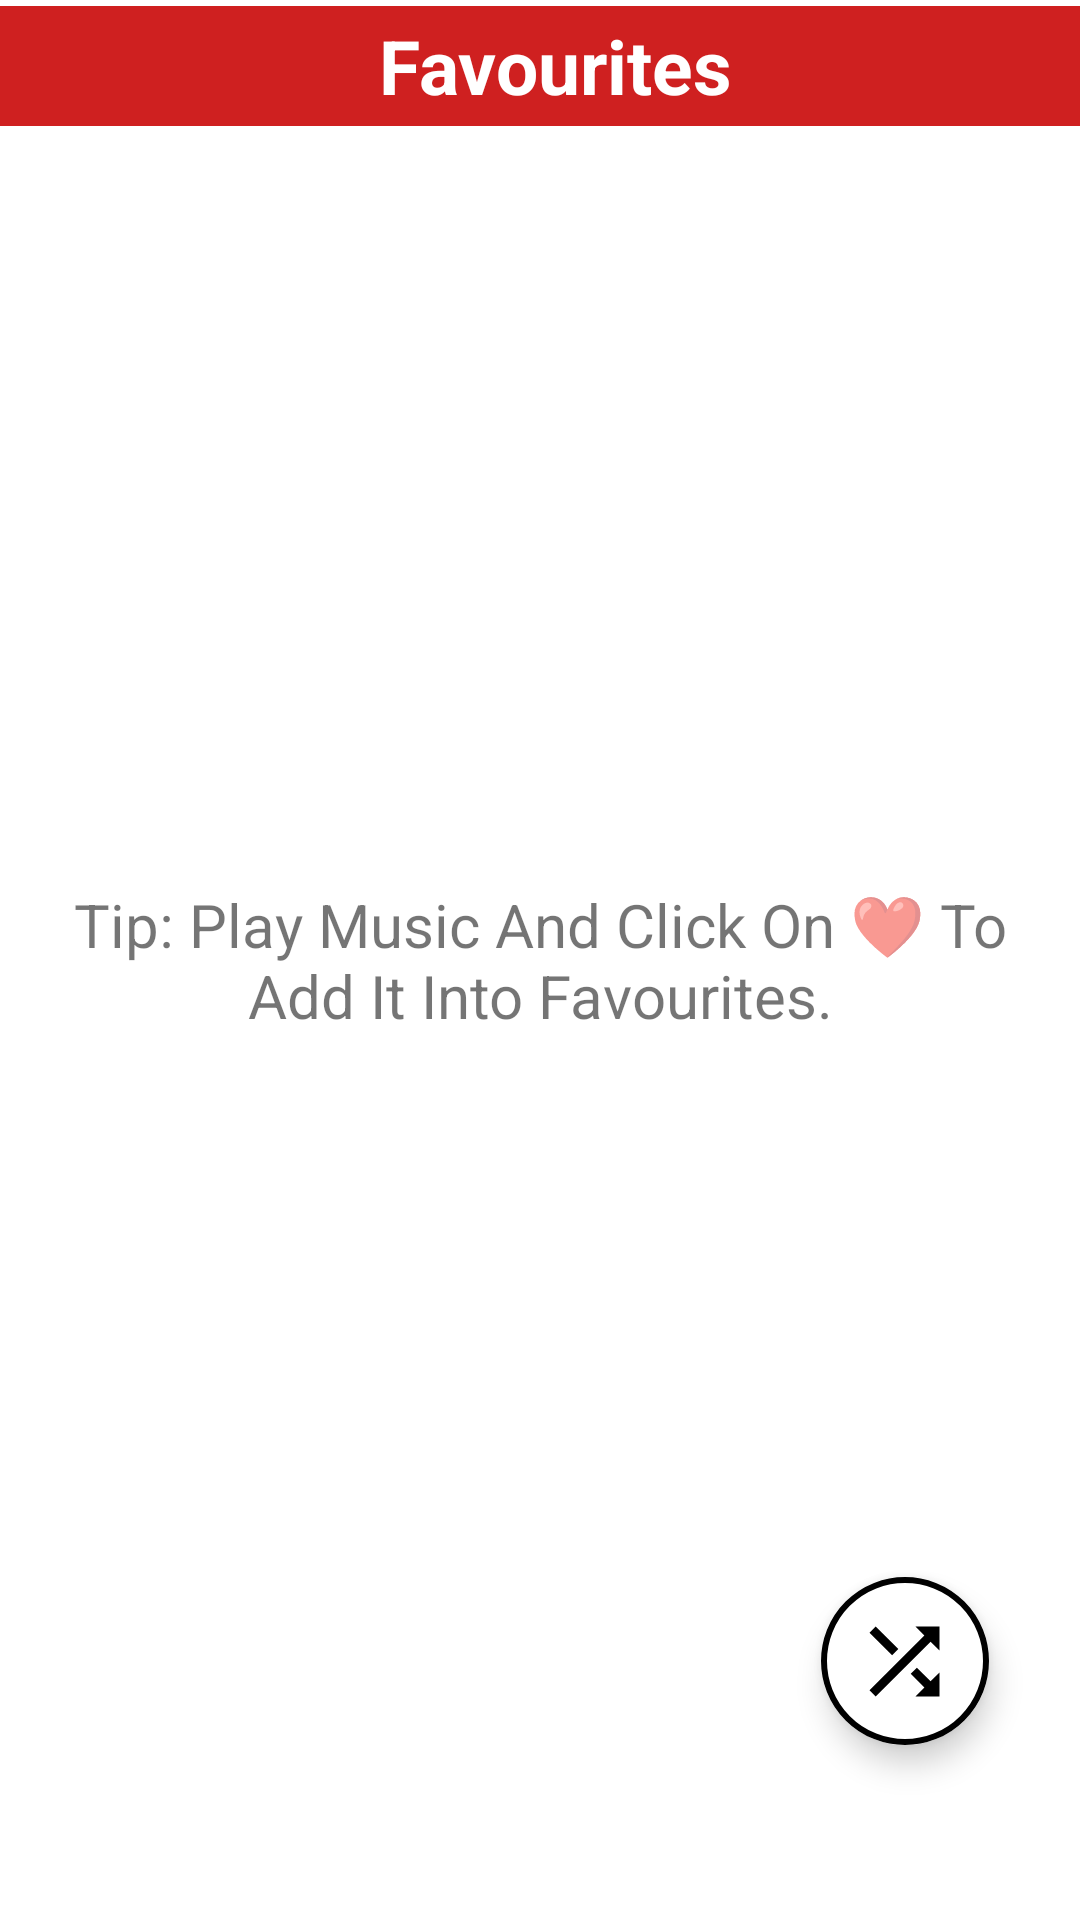

Point at icon controls on the screen. Image size 1080x1920, points as (x=x, y=y).
shuffle: (x=905, y=1661)
